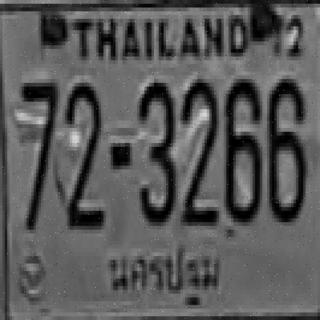N02: (64, 81, 102, 228), (180, 77, 217, 224)
N03: (137, 79, 173, 222)
N06: (266, 75, 304, 218), (224, 75, 260, 218)
N07: (18, 79, 56, 230)
P28: (105, 238, 228, 314)
